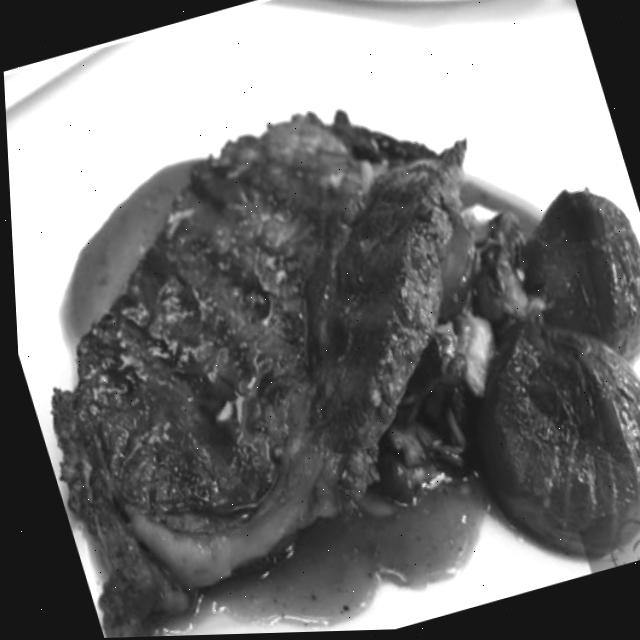牛肉菜式: (1, 4, 640, 640)
